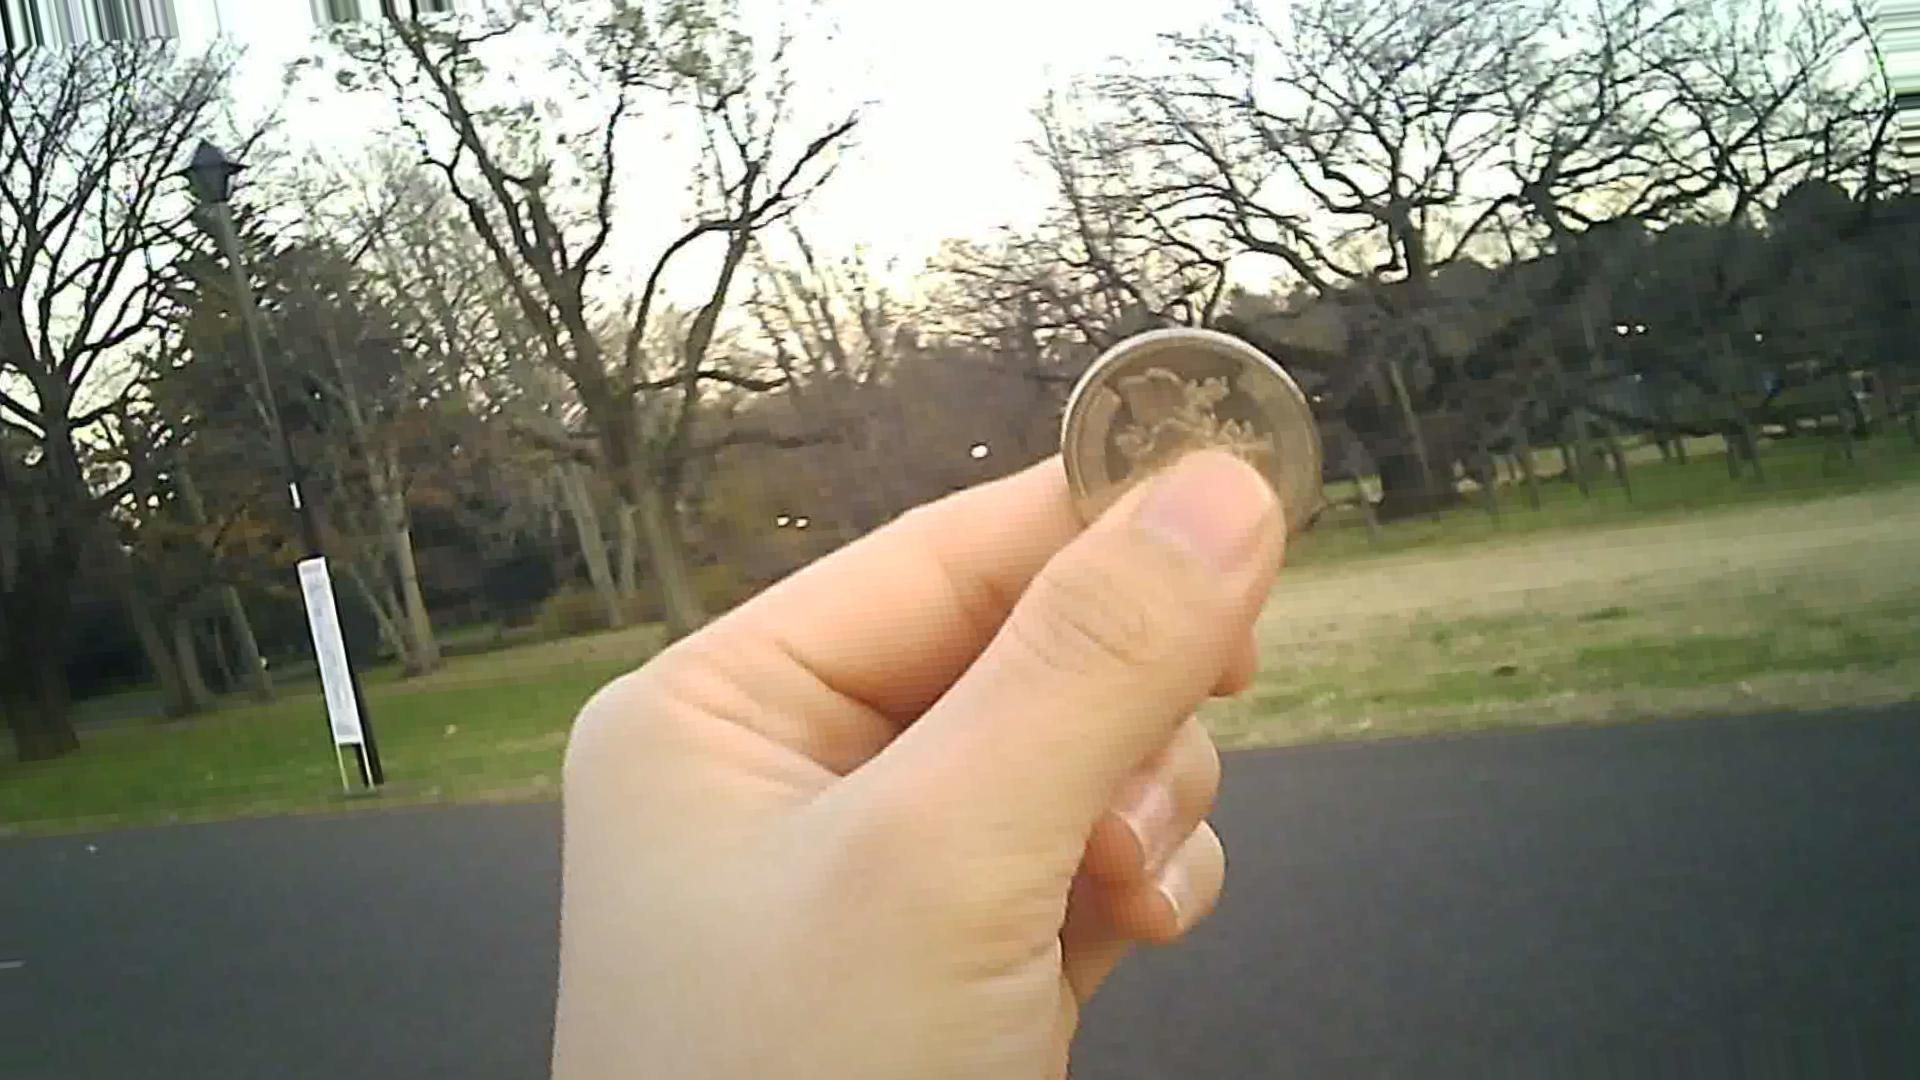500 Yen: (1059, 322, 1323, 553)
